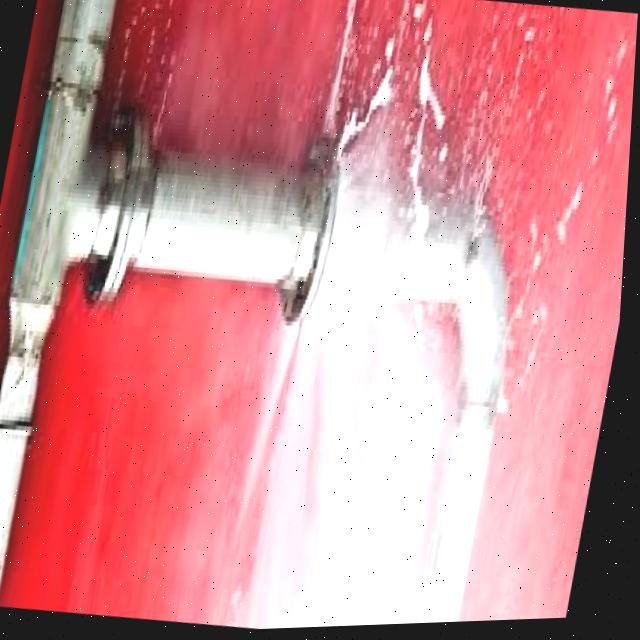corrosion: (217, 84, 433, 354)
